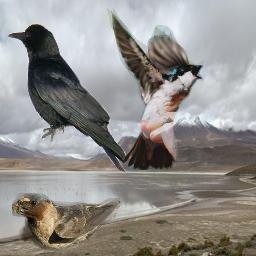Crow: (6, 23, 127, 173)
Swallow: (106, 7, 204, 170), (12, 193, 122, 252)
